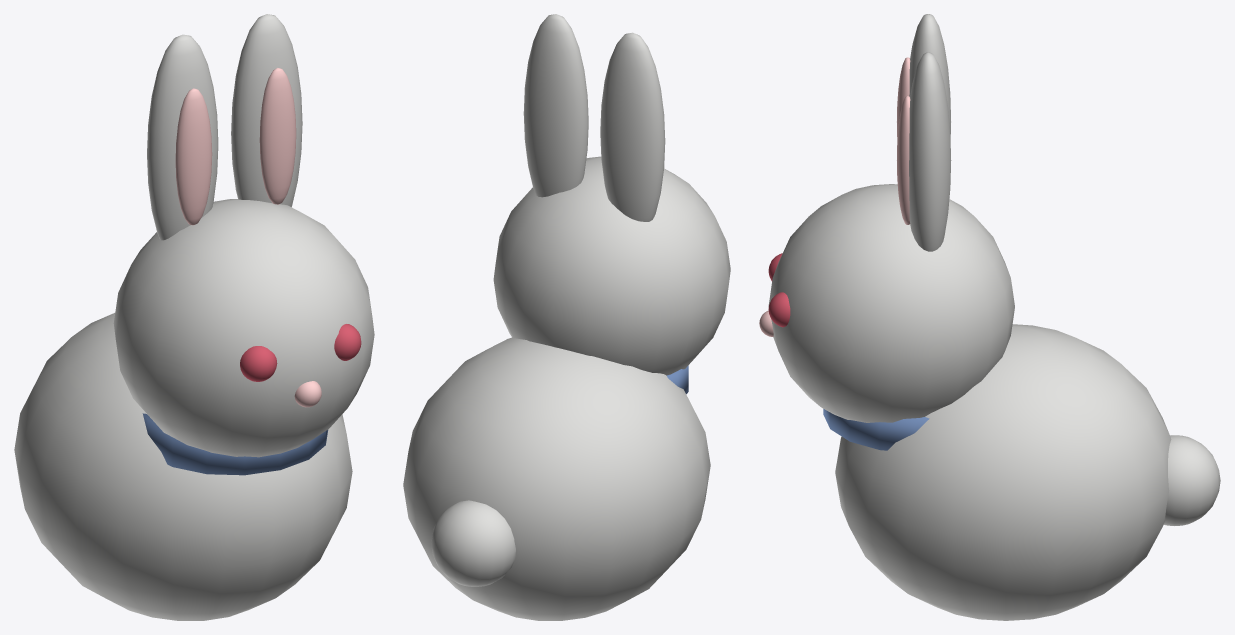
File: rabbit.glb
The picture shows the model from 3 angles, left to right: view 1: azimuth 30°, elevation 25°; view 2: azimuth 150°, elevation 25°; view 3: azimuth 270°, elevation 25°; orthographic projection. The views are drawn at different scales.
Visible parts, largest first — view 1: rabbit; view 2: rabbit; view 3: rabbit.
Part boxes in pixels (x1=…): rabbit: x1=14, y1=14, x2=374, y2=620; rabbit: x1=403, y1=14, x2=730, y2=620; rabbit: x1=759, y1=14, x2=1220, y2=620.
Size of the model in its own units: 0.68 by 1.38 by 1.01.
